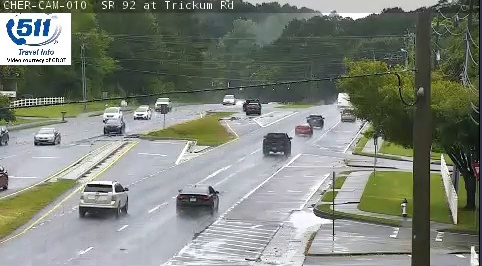car: (79, 181, 128, 209), (177, 185, 219, 212), (262, 133, 291, 154), (294, 123, 313, 137), (307, 115, 323, 128)
